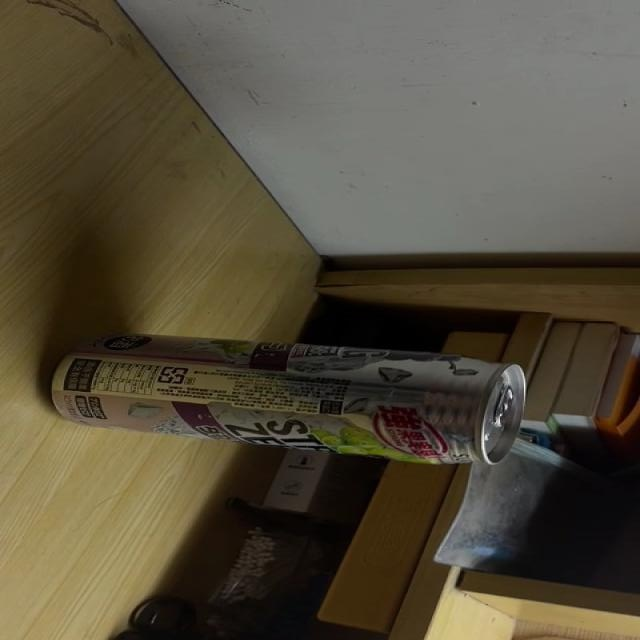Liquor: (44, 332, 529, 466)
